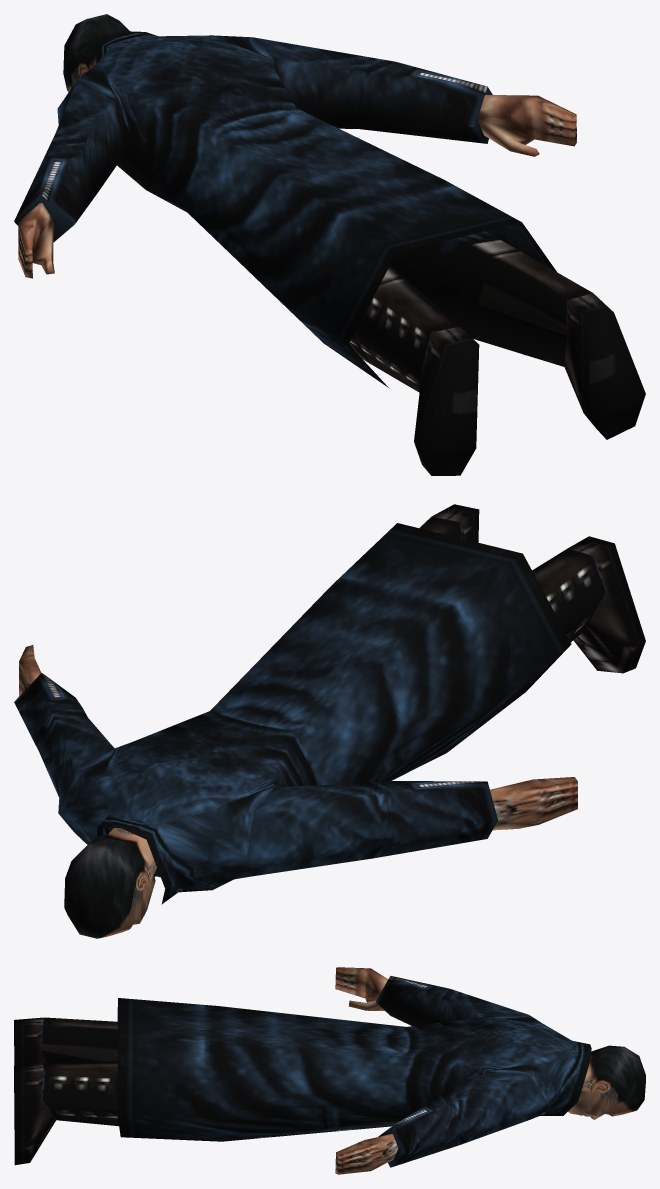
File: jcdenton.fbx
The picture shows the model from 3 angles, top to bottom: view 1: azimuth 30°, elevation 25°; view 2: azimuth 150°, elevation 25°; view 3: azimuth 270°, elevation 25°; orthographic projection. The views are drawn at different scales.
Parts seen in each view (by area): view 1: JCDentonMale_ms3d_m; view 2: JCDentonMale_ms3d_m; view 3: JCDentonMale_ms3d_m.
Boxes of the visible parts, <box> form: JCDentonMale_ms3d_m: <box>14,14,645,475</box>; JCDentonMale_ms3d_m: <box>14,504,645,938</box>; JCDentonMale_ms3d_m: <box>14,967,645,1174</box>.
Bounding box in the file's own units: 6.63 × 1.91 × 9.42.
